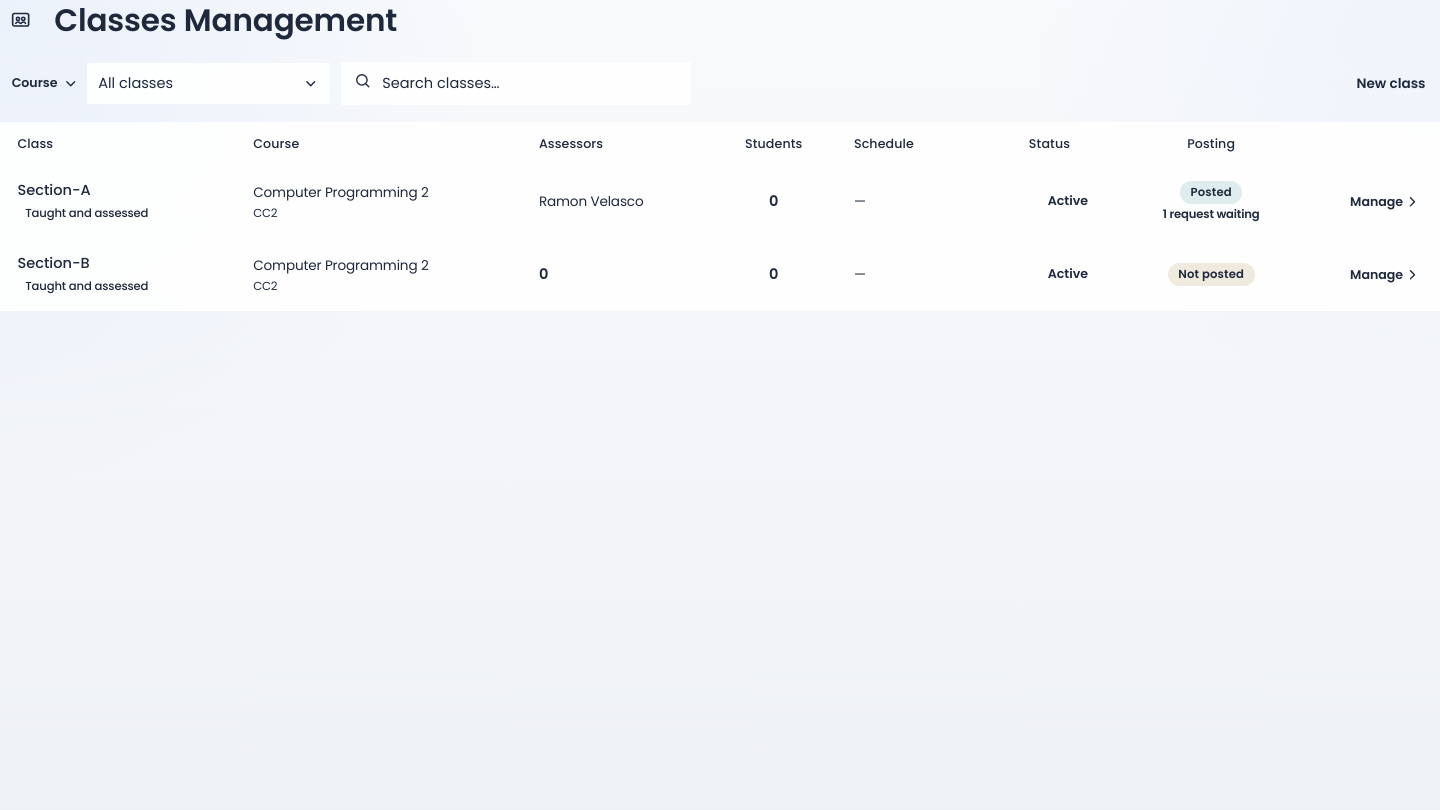
Scenario: Posting › can't post a class that can't take students, and says why
Click the button "Section-B" at x=54, y=263, box left=18, top=253, right=90, bottom=274
(page scrolled)
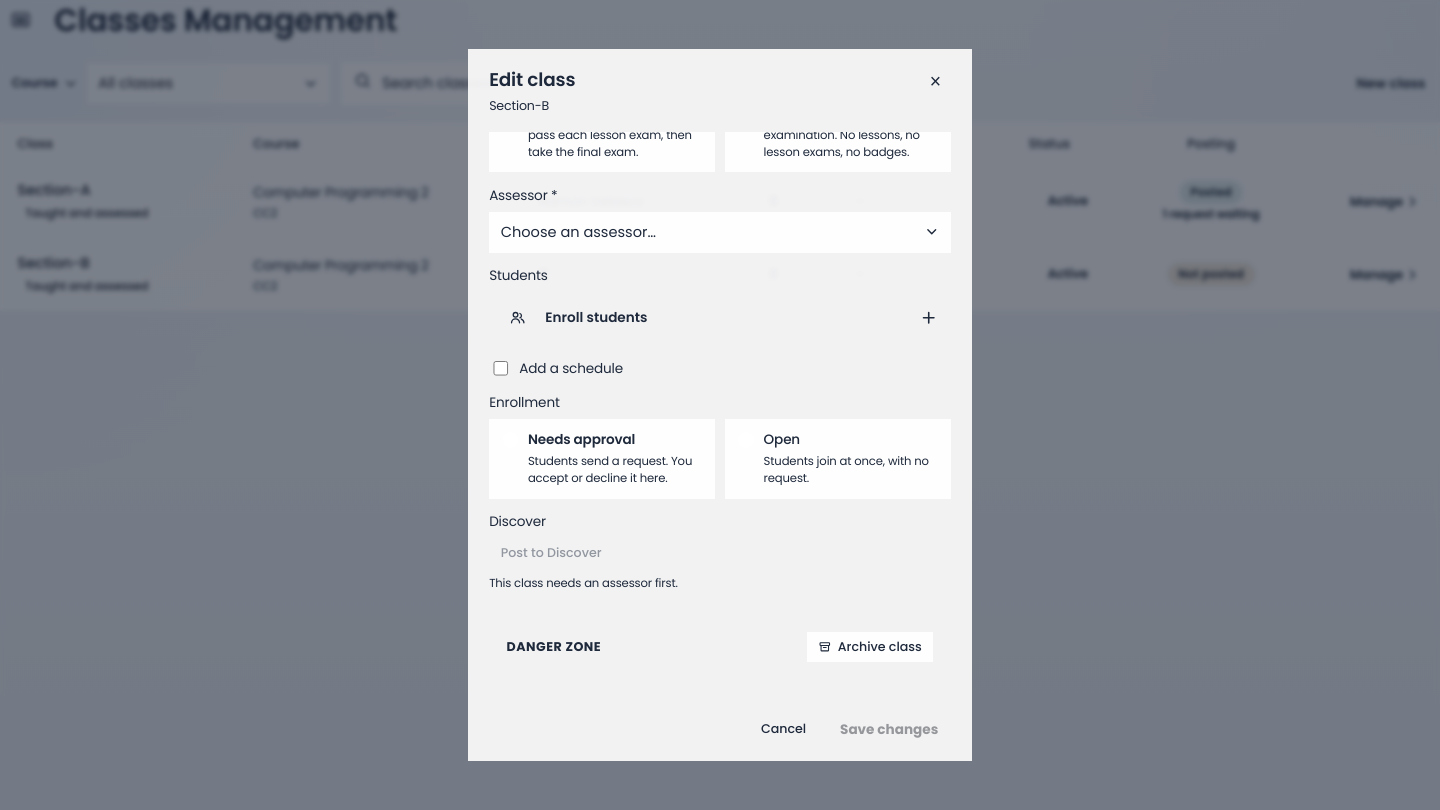
expect the button "Post to Discover" is disabled: met, box left=489, top=538, right=613, bottom=569
expect the text "This class needs an assessor first." is shown: met, box left=489, top=575, right=678, bottom=591
